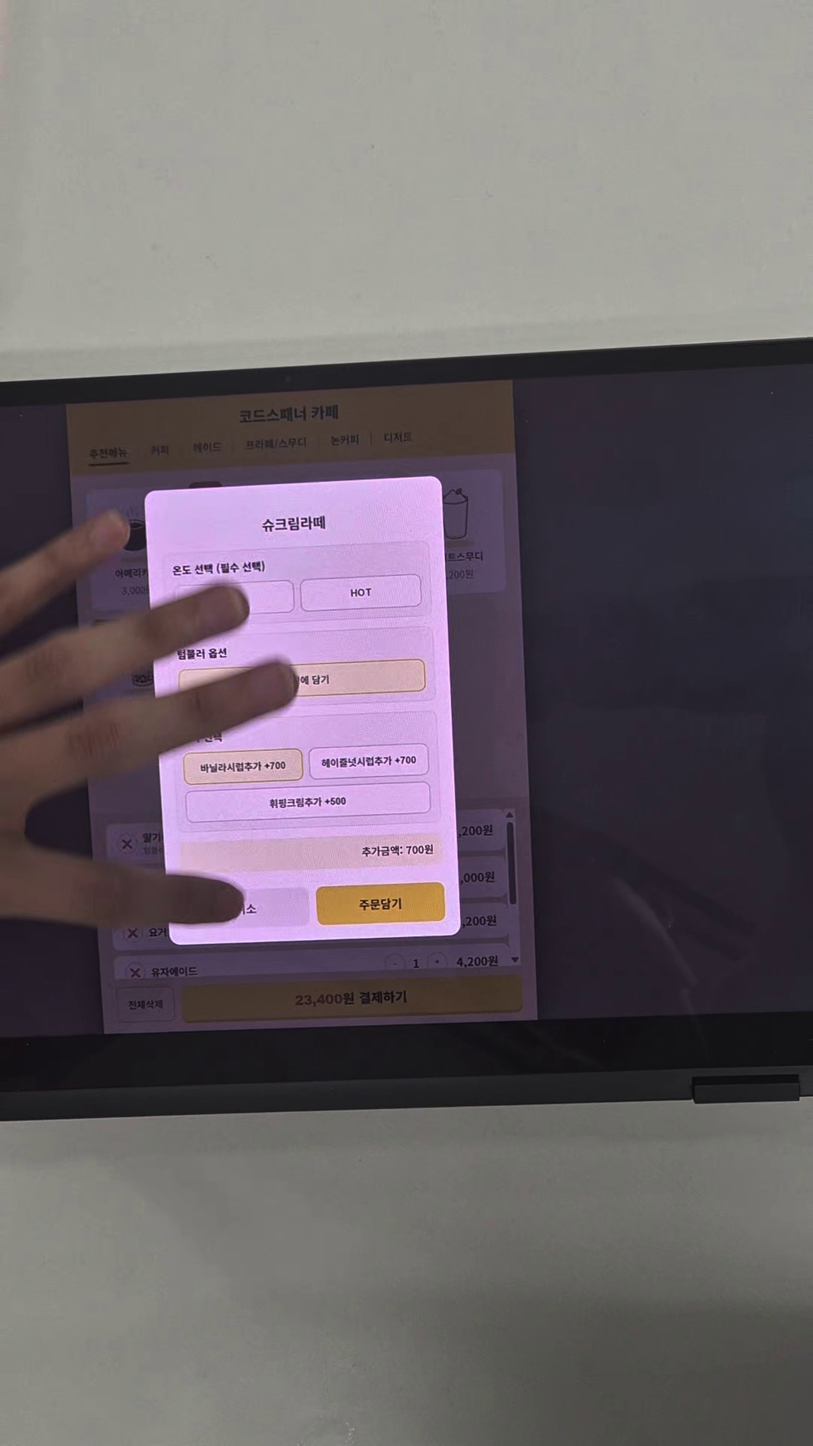action_button: (317, 883, 446, 927), (181, 887, 313, 929)
option_button: (177, 659, 427, 707), (188, 784, 433, 824), (301, 573, 423, 613), (312, 739, 430, 776), (186, 750, 305, 784)
popup_modal: (146, 472, 462, 948)
